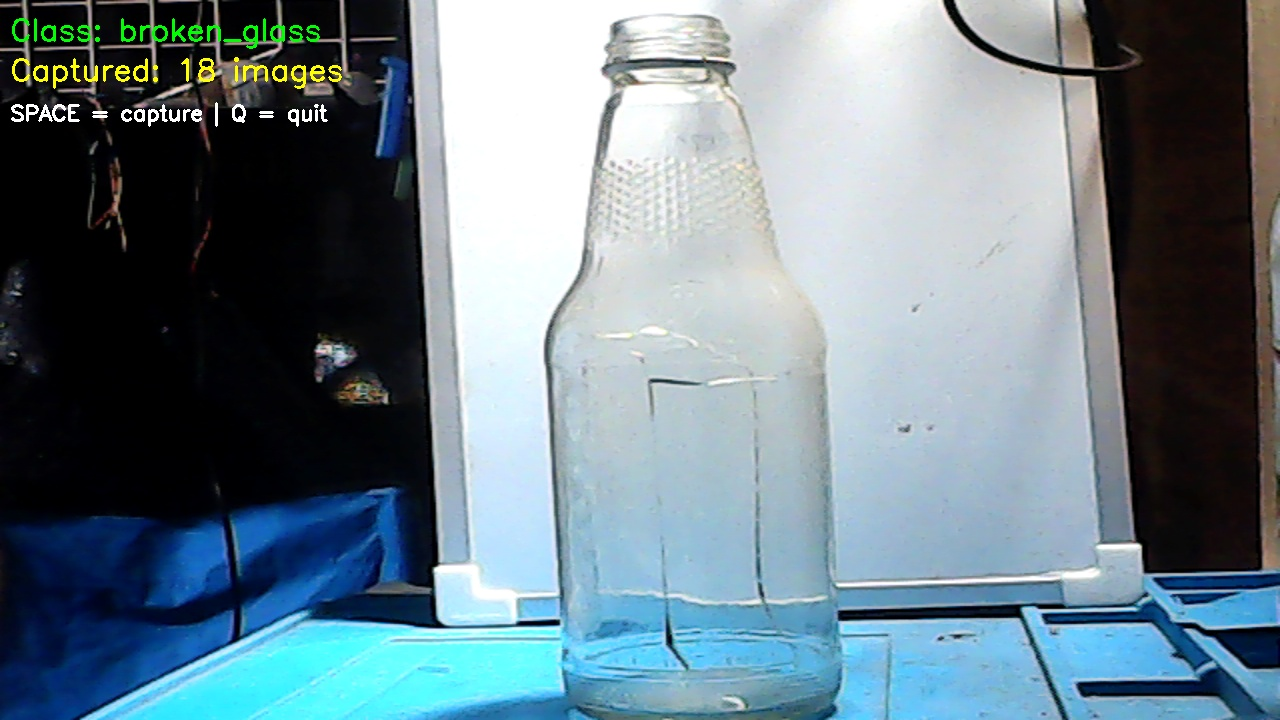broken_glass: (529, 10, 855, 710)
